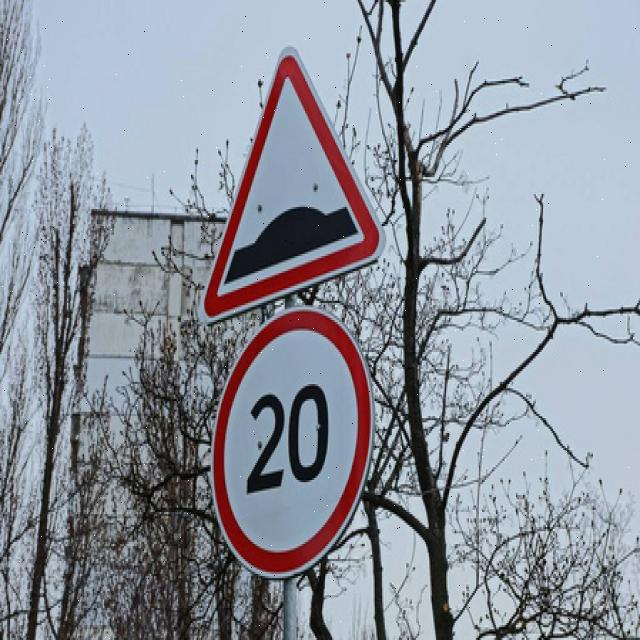speed limit 20: (209, 308, 373, 580)
